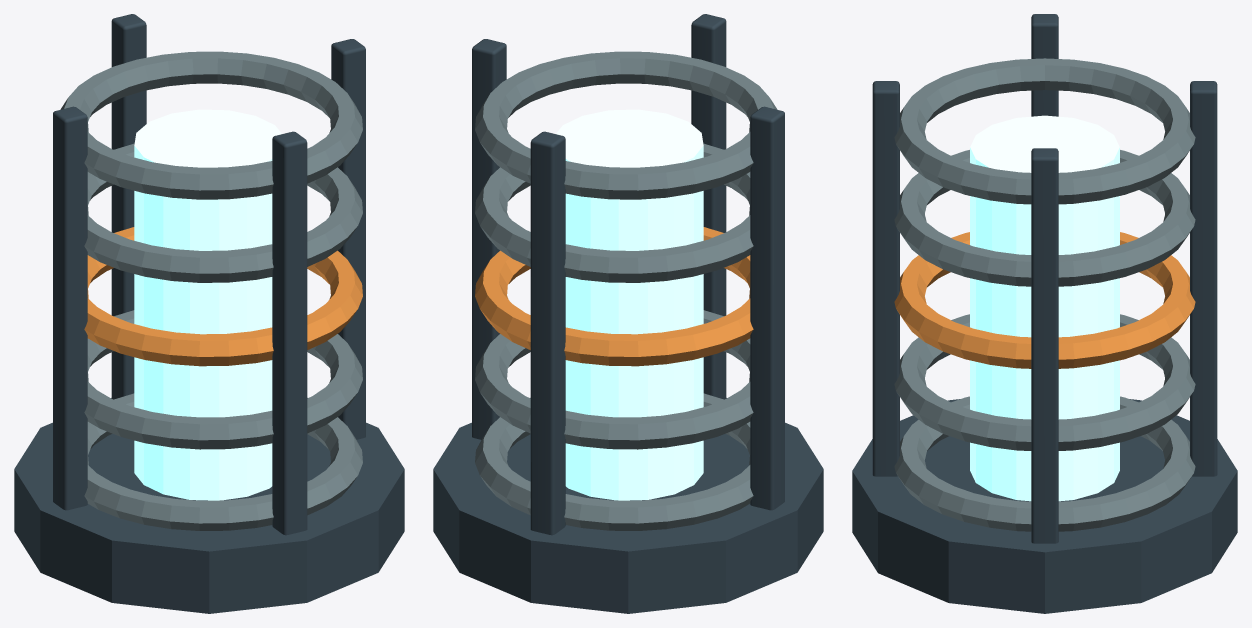
File: reactor.glb
The picture shows the model from 3 angles, left to right: view 1: azimuth 30°, elevation 25°; view 2: azimuth 150°, elevation 25°; view 3: azimuth 270°, elevation 25°; orthographic projection.
Visible parts, largest first — view 1: reactor; view 2: reactor; view 3: reactor.
Part boxes in pixels (x1,y1,x2,y2): reactor: (14, 14, 404, 613); reactor: (433, 14, 823, 613); reactor: (852, 14, 1237, 613).
Size of the model in its own units: 3.4 by 4.35 by 3.4.
